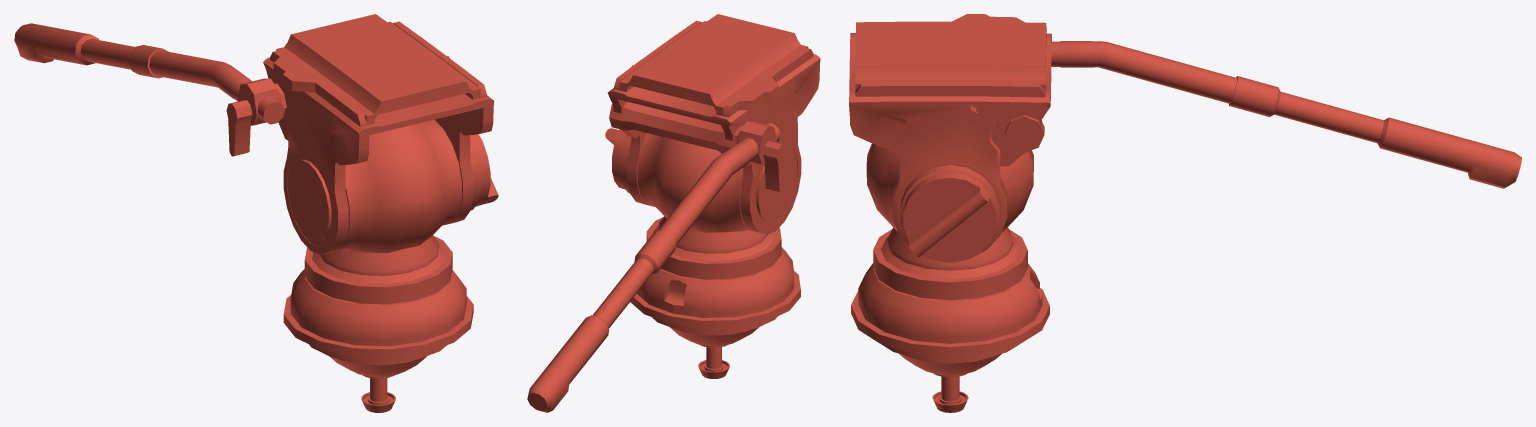
File: Modern High End Tripod Head Animatable.fbx
3 renders of one model, left to right at view 1: azimuth 30°, elevation 25°; view 2: azimuth 150°, elevation 25°; view 3: azimuth 270°, elevation 25°, orthographic. The views are drawn at different scales.
Visible parts, largest first — view 1: Tilt, Base, Pan; view 2: Tilt, Base, Pan; view 3: Tilt, Base, Pan.
Boxes of the visible parts, bbox=[...] form: Tilt: bbox=[14, 14, 498, 254]; Base: bbox=[283, 236, 473, 412]; Pan: bbox=[312, 119, 461, 284]; Tilt: bbox=[527, 14, 820, 412]; Base: bbox=[630, 217, 800, 378]; Pan: bbox=[637, 133, 774, 260]; Tilt: bbox=[849, 14, 1521, 262]; Base: bbox=[851, 229, 1049, 412]; Pan: bbox=[866, 143, 1033, 279].
Bounding box in the file's own units: 29.85 × 47.22 × 78.75.
